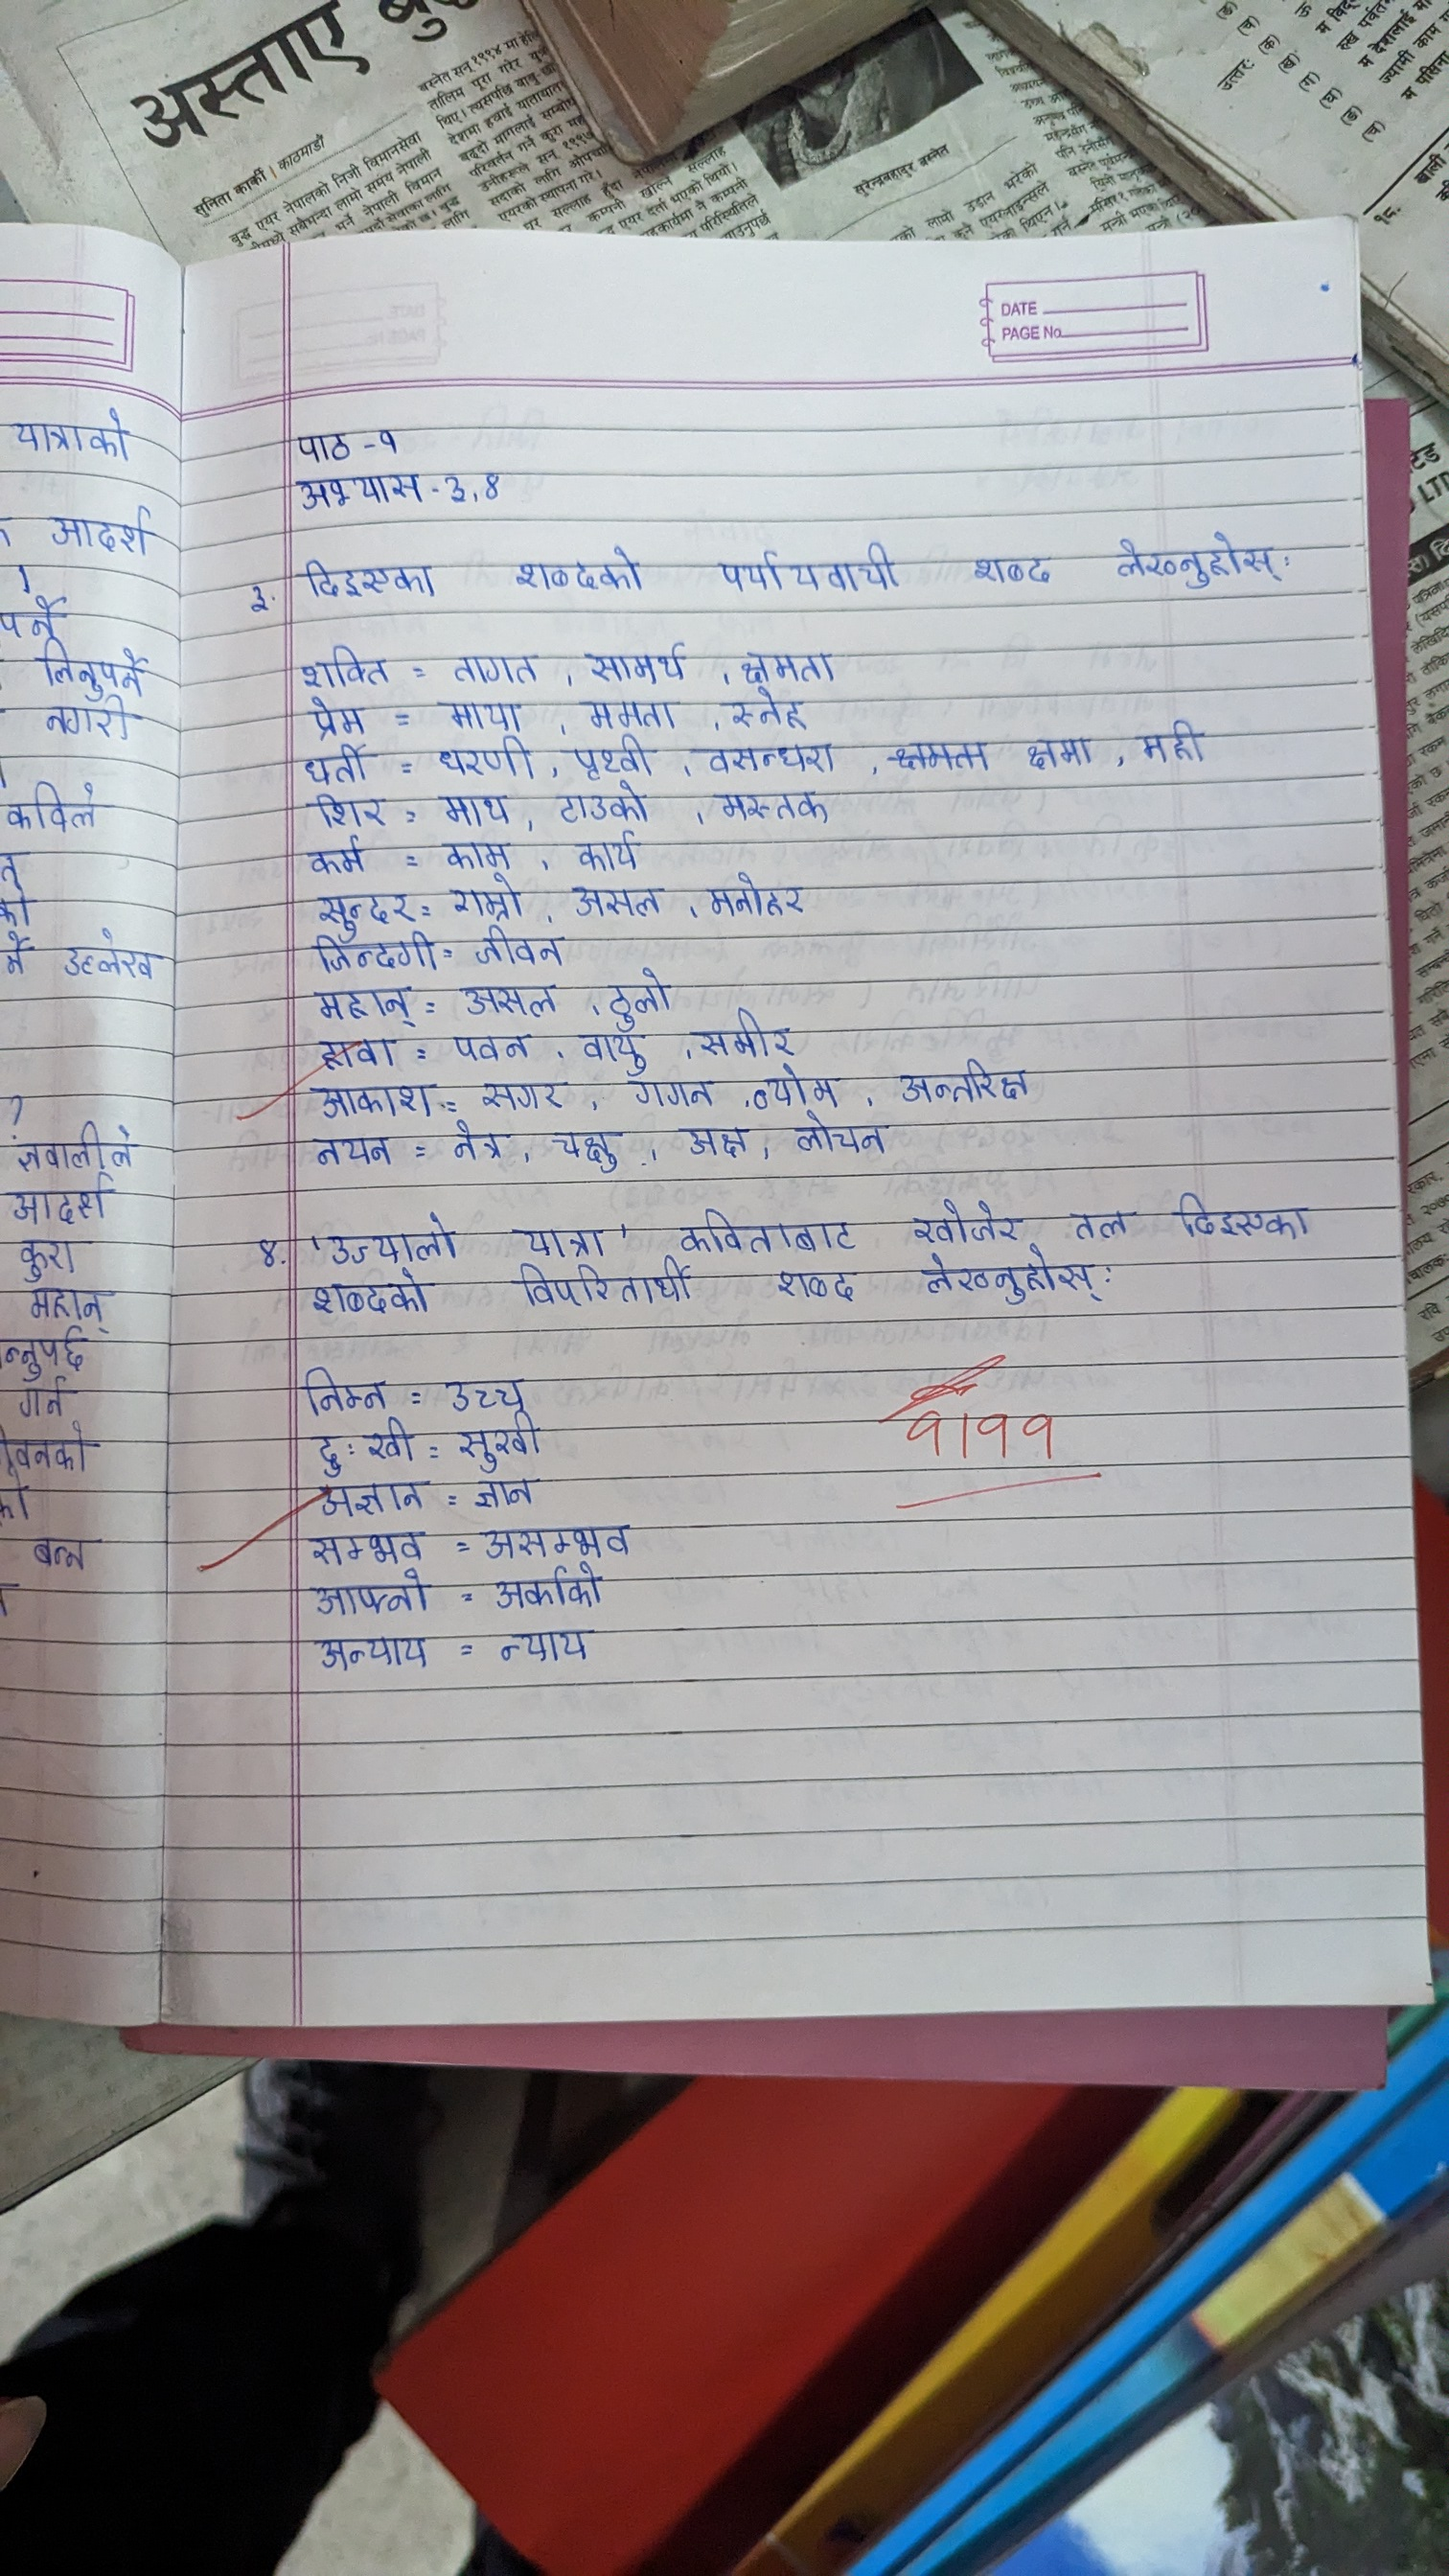text: (1097, 529, 1302, 594), (708, 534, 904, 600), (916, 1249, 1111, 1304), (501, 536, 660, 602), (681, 1201, 865, 1253), (515, 1261, 697, 1309), (1164, 1189, 1325, 1240), (295, 547, 446, 602), (890, 1051, 1030, 1109), (324, 1208, 464, 1260), (483, 1516, 639, 1560), (311, 1265, 432, 1322), (904, 1191, 1026, 1244), (706, 740, 849, 784), (313, 1628, 439, 1677), (490, 1564, 607, 1617), (310, 1417, 414, 1476), (699, 872, 814, 924), (292, 474, 433, 513), (306, 1569, 435, 1612), (577, 635, 690, 683), (292, 640, 396, 692), (959, 543, 1060, 594), (692, 1008, 800, 1056), (301, 934, 439, 971), (453, 1417, 550, 1468), (706, 789, 839, 826), (313, 1079, 439, 1118), (605, 968, 679, 1031), (439, 648, 554, 688), (308, 985, 421, 1026), (453, 977, 561, 1019), (495, 1621, 603, 1663), (313, 1483, 435, 1520), (747, 1065, 844, 1111), (435, 736, 536, 780), (731, 642, 835, 685), (303, 890, 416, 929), (768, 1260, 863, 1306), (297, 1366, 391, 1412), (301, 1532, 428, 1566), (564, 886, 679, 924), (787, 1116, 897, 1155), (439, 1369, 538, 1412), (471, 927, 570, 968), (557, 786, 660, 824), (441, 878, 527, 922), (676, 1120, 759, 1166), (308, 1132, 405, 1171), (722, 688, 810, 731), (510, 1223, 616, 1258), (568, 738, 655, 780), (564, 830, 644, 876), (547, 1123, 626, 1169), (432, 791, 520, 832), (297, 745, 379, 787), (571, 1033, 655, 1074), (1021, 727, 1093, 773), (580, 697, 674, 732), (630, 1076, 720, 1111), (290, 423, 359, 467), (1138, 718, 1201, 766), (313, 1035, 403, 1069), (448, 1028, 538, 1062), (476, 1076, 566, 1109), (441, 835, 518, 872), (441, 699, 527, 731), (467, 1474, 541, 1509), (1067, 1205, 1136, 1242), (303, 833, 366, 872), (313, 794, 389, 826), (246, 1228, 297, 1274), (304, 699, 364, 738), (453, 1122, 504, 1161), (235, 571, 278, 616), (483, 467, 513, 511), (442, 465, 471, 510), (373, 421, 407, 456)
